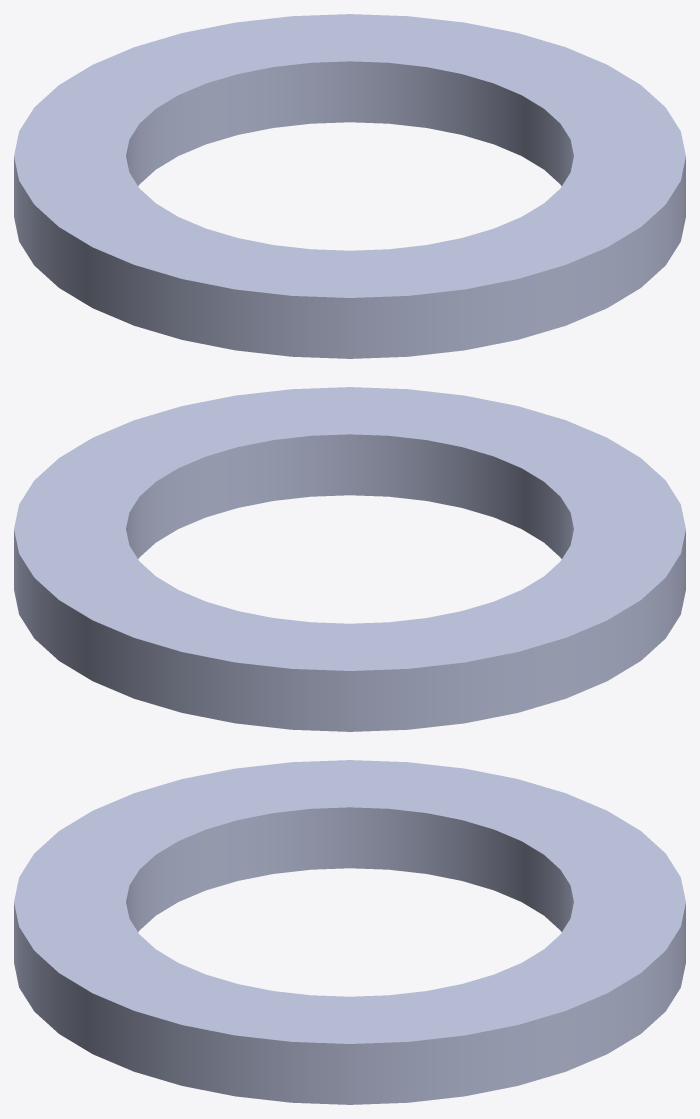
File: 32-41-12-200-001-A01 Washer.fbx
3 renders of one model, top to bottom at view 1: azimuth 30°, elevation 25°; view 2: azimuth 150°, elevation 25°; view 3: azimuth 270°, elevation 25°, orthographic.
Visible parts, largest first — view 1: 32-41-12-200-001-A01 Washer; view 2: 32-41-12-200-001-A01 Washer; view 3: 32-41-12-200-001-A01 Washer.
Boxes of the visible parts, box(x1,y1,x2,y2) form: 32-41-12-200-001-A01 Washer: box(14, 14, 685, 358); 32-41-12-200-001-A01 Washer: box(14, 387, 685, 731); 32-41-12-200-001-A01 Washer: box(14, 760, 685, 1104).
Size of the model in its own units: 1.5 by 0.15 by 1.5.
